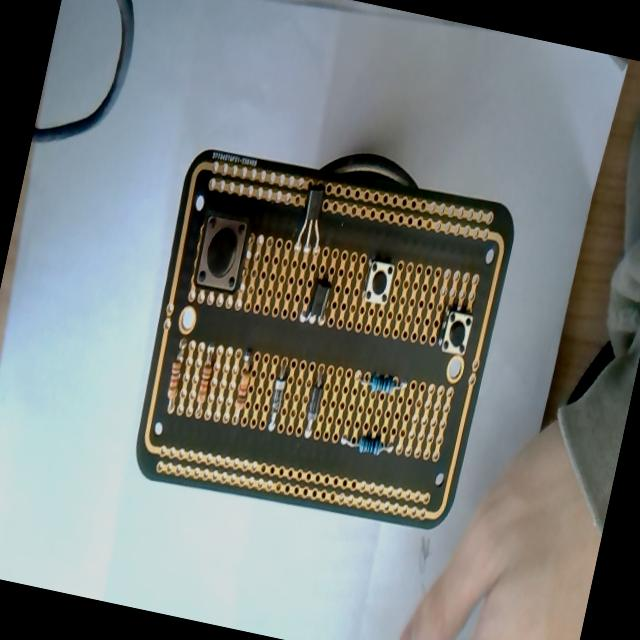diode: (259, 350, 294, 437), (300, 367, 328, 439)
resistor: (226, 350, 258, 428), (190, 344, 217, 418), (164, 338, 189, 406), (355, 367, 408, 397), (358, 433, 384, 458)
switch: (191, 210, 253, 296), (437, 308, 474, 357), (362, 258, 395, 306)
transistor: (289, 182, 336, 260), (296, 284, 334, 332)
